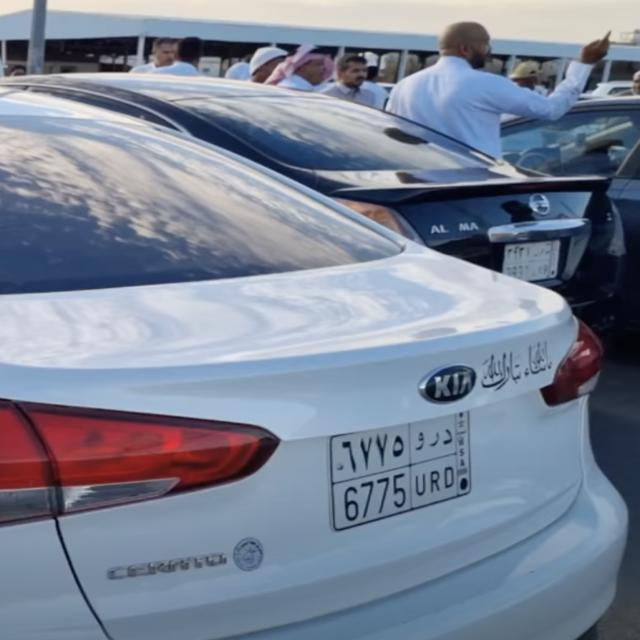license_plate: (324, 408, 476, 536), (498, 238, 565, 292)
